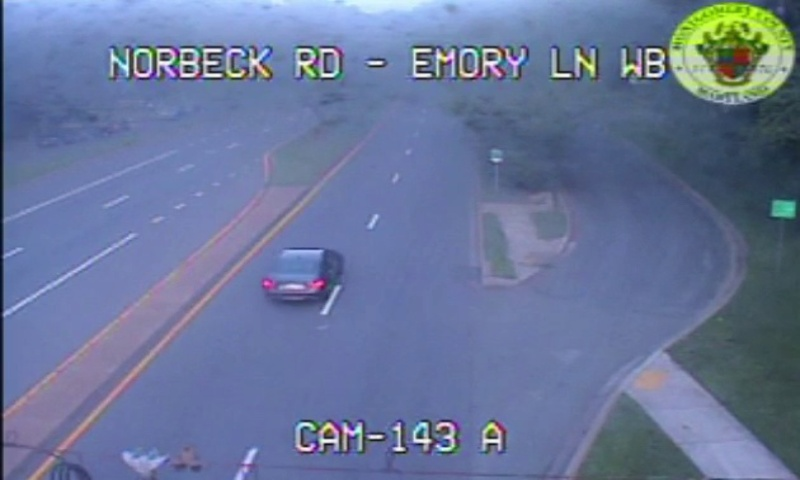car: (261, 249, 336, 299)
